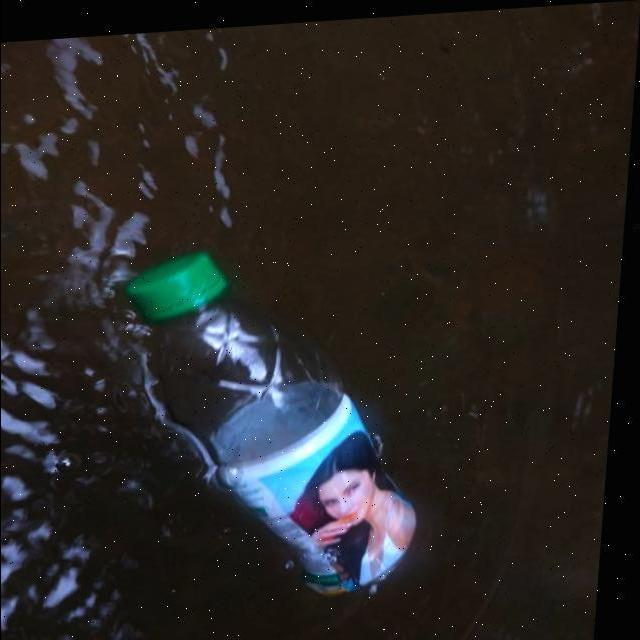Bottle: (120, 242, 428, 604)
